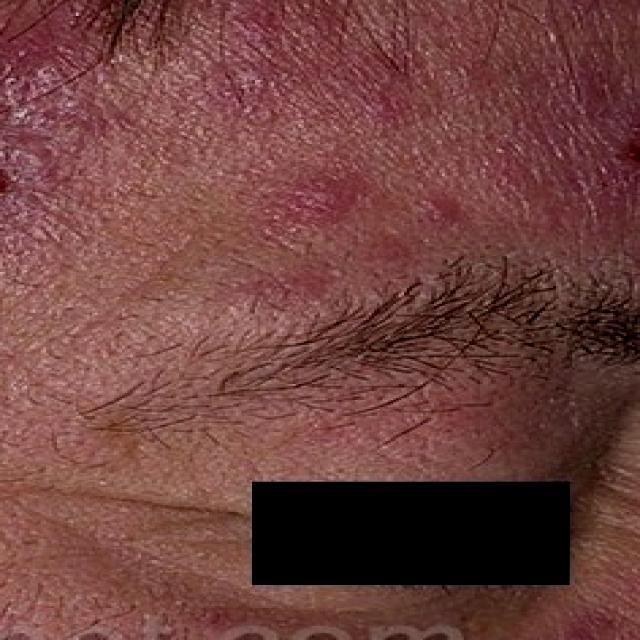Rosacea: (205, 15, 640, 269), (0, 28, 114, 228)
